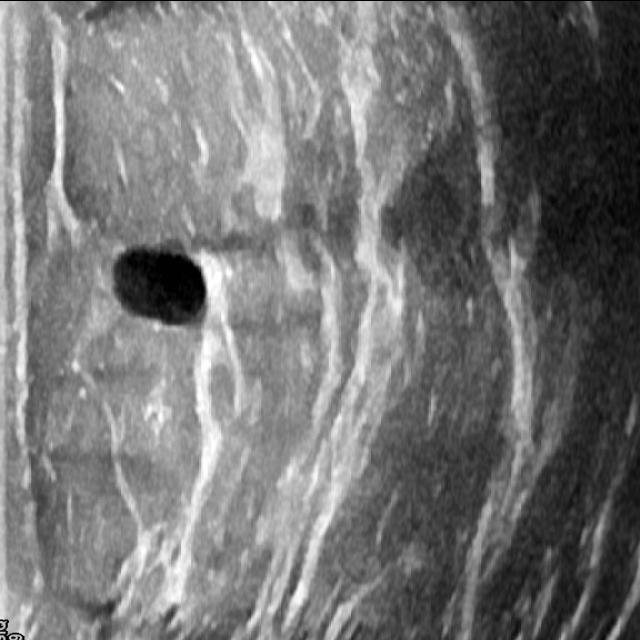Benign: (104, 244, 210, 328)
